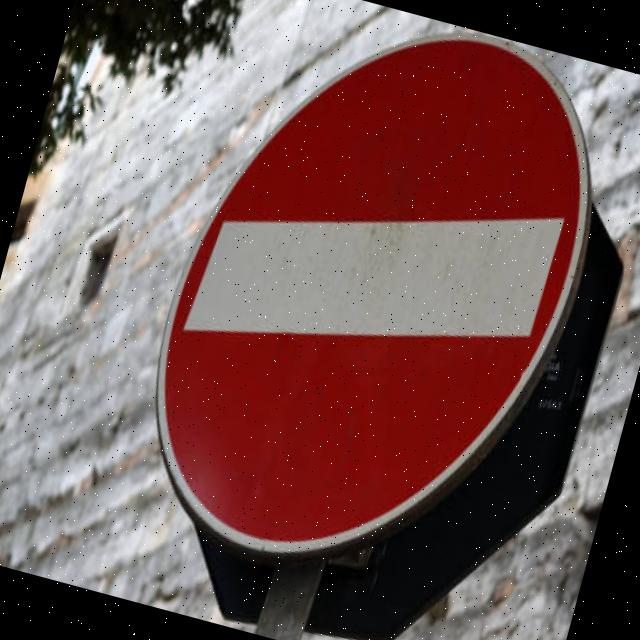do_not_enter: (101, 0, 636, 613)
